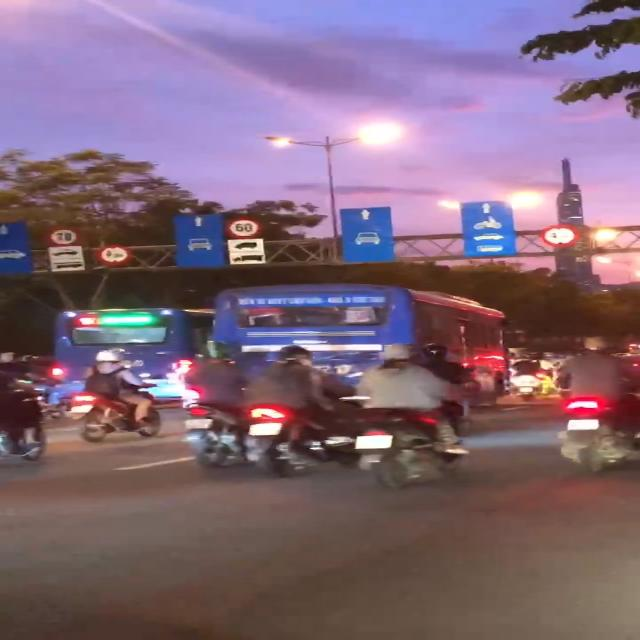Bien bao toc do toi da cho phep: (220, 217, 262, 240), (44, 226, 86, 248)
